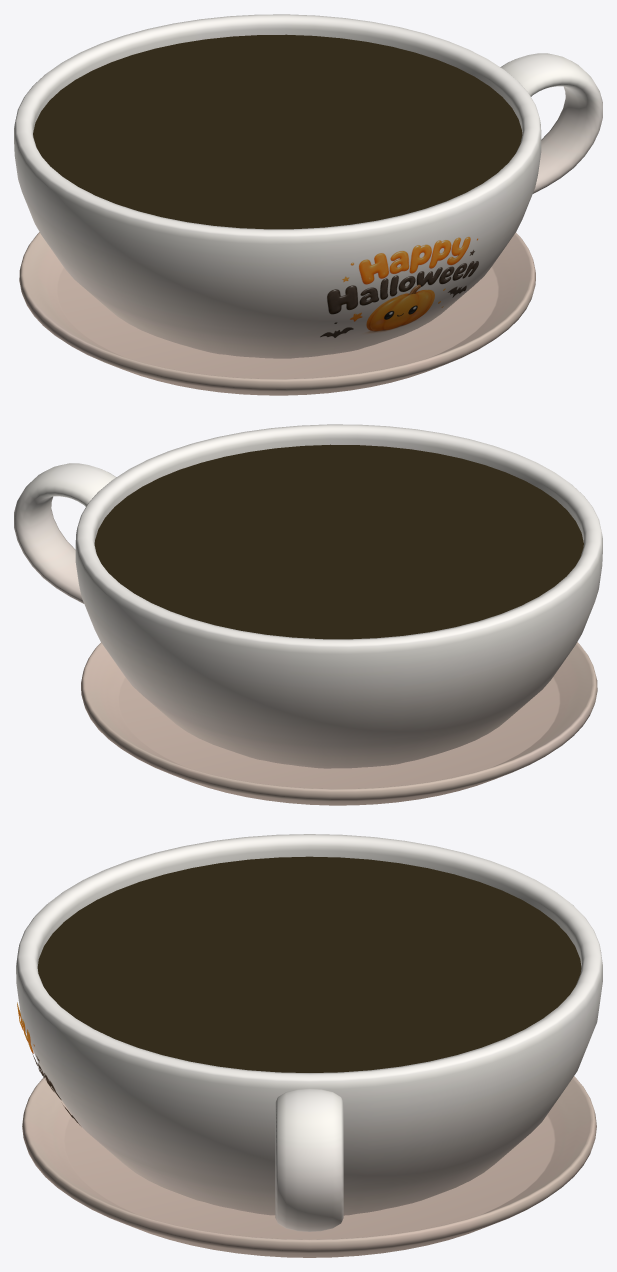
The model's file is Mug.glb.
3 renders of one model, top to bottom at view 1: azimuth 30°, elevation 25°; view 2: azimuth 150°, elevation 25°; view 3: azimuth 270°, elevation 25°, orthographic. The views are drawn at different scales.
Parts seen in each view (by area): view 1: Sphere005, Cylinder006, Object001, Line001; view 2: Sphere005, Cylinder006, Line001; view 3: Sphere005, Cylinder006, Line001.
Part boxes in pixels (bbox=[...]): Sphere005: bbox=[14, 14, 541, 358]; Cylinder006: bbox=[19, 232, 535, 395]; Object001: bbox=[320, 236, 478, 337]; Line001: bbox=[500, 53, 602, 193]; Sphere005: bbox=[75, 424, 602, 768]; Cylinder006: bbox=[81, 642, 597, 805]; Line001: bbox=[14, 463, 116, 603]; Sphere005: bbox=[16, 834, 602, 1215]; Cylinder006: bbox=[22, 1076, 596, 1257]; Line001: bbox=[275, 1088, 343, 1231].
Bounding box in the file's own units: 2.66 × 0.8397 × 2.23.
Materials: 3 (2 with a texture image).
